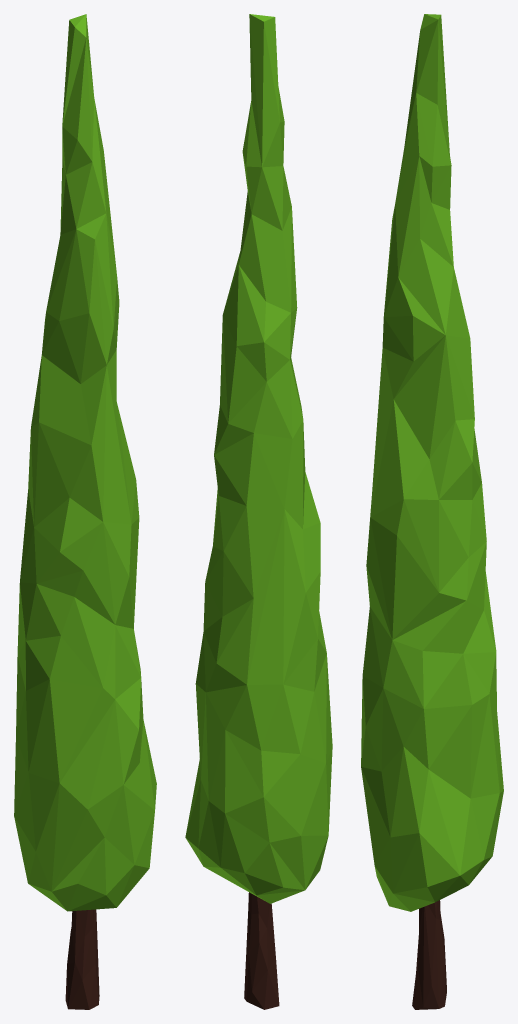
The model's file is pine_b.FBX.
3 renders of one model, left to right at view 1: azimuth 30°, elevation 25°; view 2: azimuth 150°, elevation 25°; view 3: azimuth 270°, elevation 25°, orthographic.
Parts seen in each view (by area): view 1: pine_b; view 2: pine_b; view 3: pine_b.
Part boxes in pixels (x1,y1,x2,y2): pine_b: (14,14,156,1009); pine_b: (185,14,332,1009); pine_b: (361,14,503,1009).
Bounding box in the file's own units: 266 × 1955 × 255.
